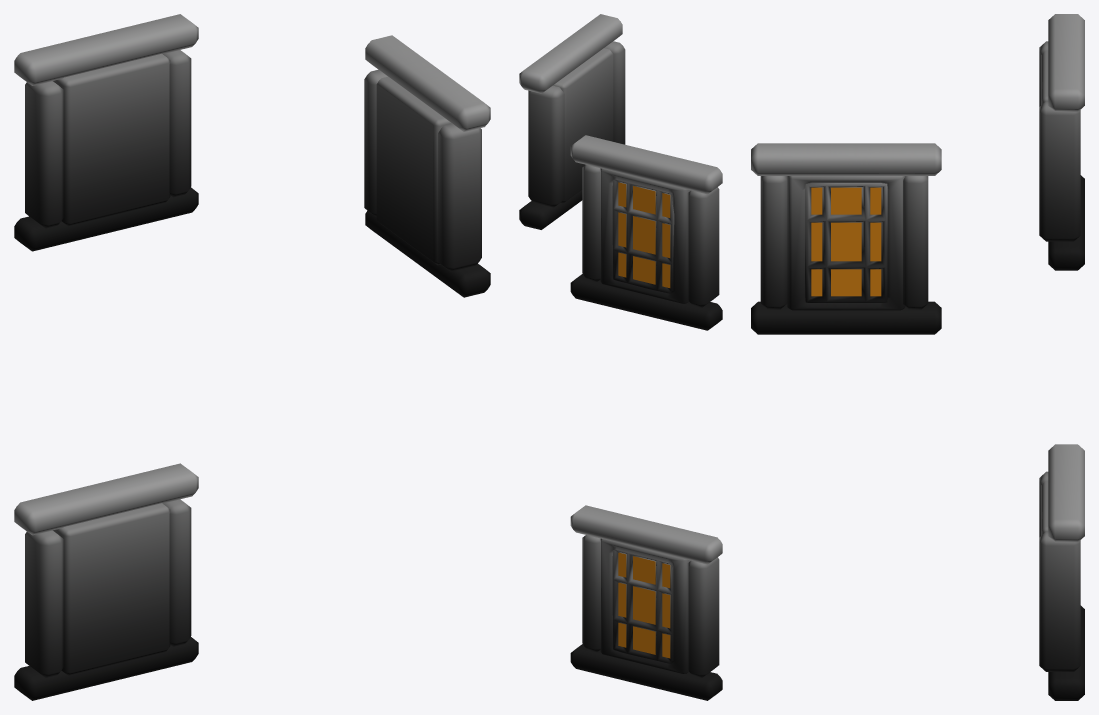
Rendered from SM_Stone_Window_07.fbx.
3 renders of one model, left to right at view 1: azimuth 30°, elevation 25°; view 2: azimuth 150°, elevation 25°; view 3: azimuth 270°, elevation 25°, orthographic. The views are drawn at different scales.
Parts seen in each view (by area): view 1: SM_Stone_Window_07; view 2: SM_Stone_Window_07; view 3: SM_Stone_Window_07.
Boxes of the visible parts, x1,y1,x2,y2 form: SM_Stone_Window_07: (14, 14, 490, 700); SM_Stone_Window_07: (519, 14, 722, 700); SM_Stone_Window_07: (751, 14, 1084, 700).
Bounding box in the file's own units: 0.7195 × 1.42 × 0.7016.
